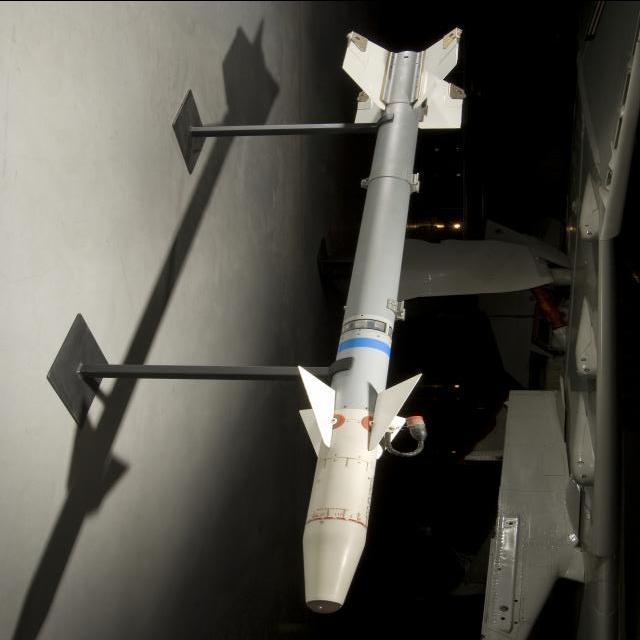missile: (294, 22, 471, 621)
